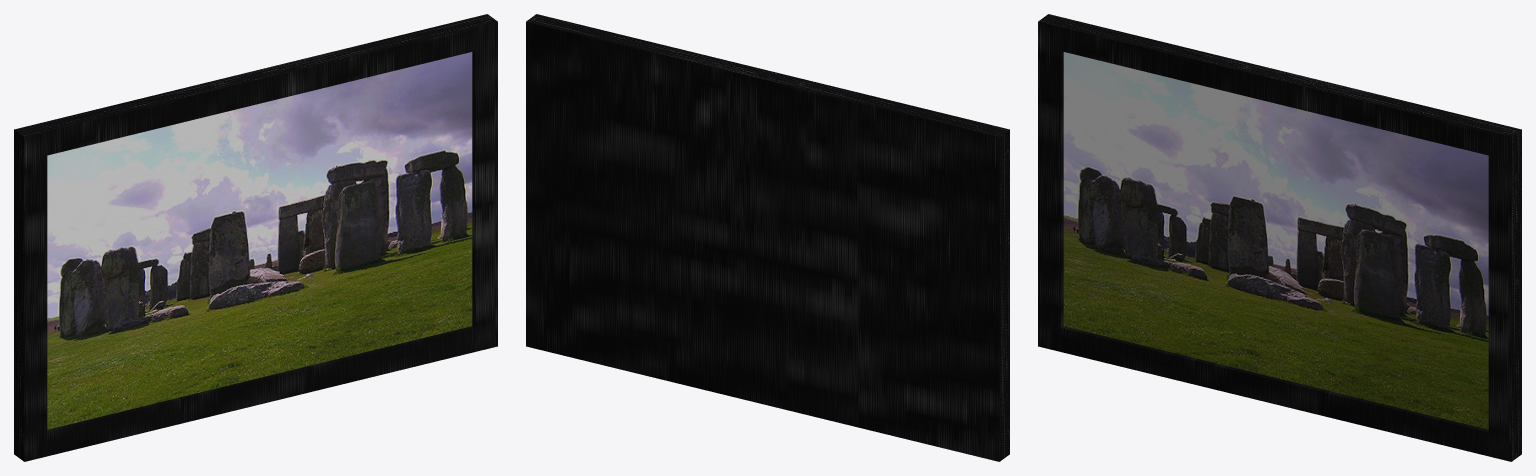
Rendered from picture_5.fbx.
3 views of the same model, side by side, from view 1: azimuth 30°, elevation 25°; view 2: azimuth 150°, elevation 25°; view 3: azimuth 330°, elevation 25° (orthographic).
Visible parts, largest first — view 1: picture_5; view 2: picture_5; view 3: picture_5.
Part boxes in pixels (left/top/right/bottom): picture_5: left=14, top=14, right=497, bottom=461; picture_5: left=526, top=14, right=1009, bottom=461; picture_5: left=1038, top=14, right=1521, bottom=461.
Bounding box in the file's own units: 0.9241 × 0.6061 × 0.035.
